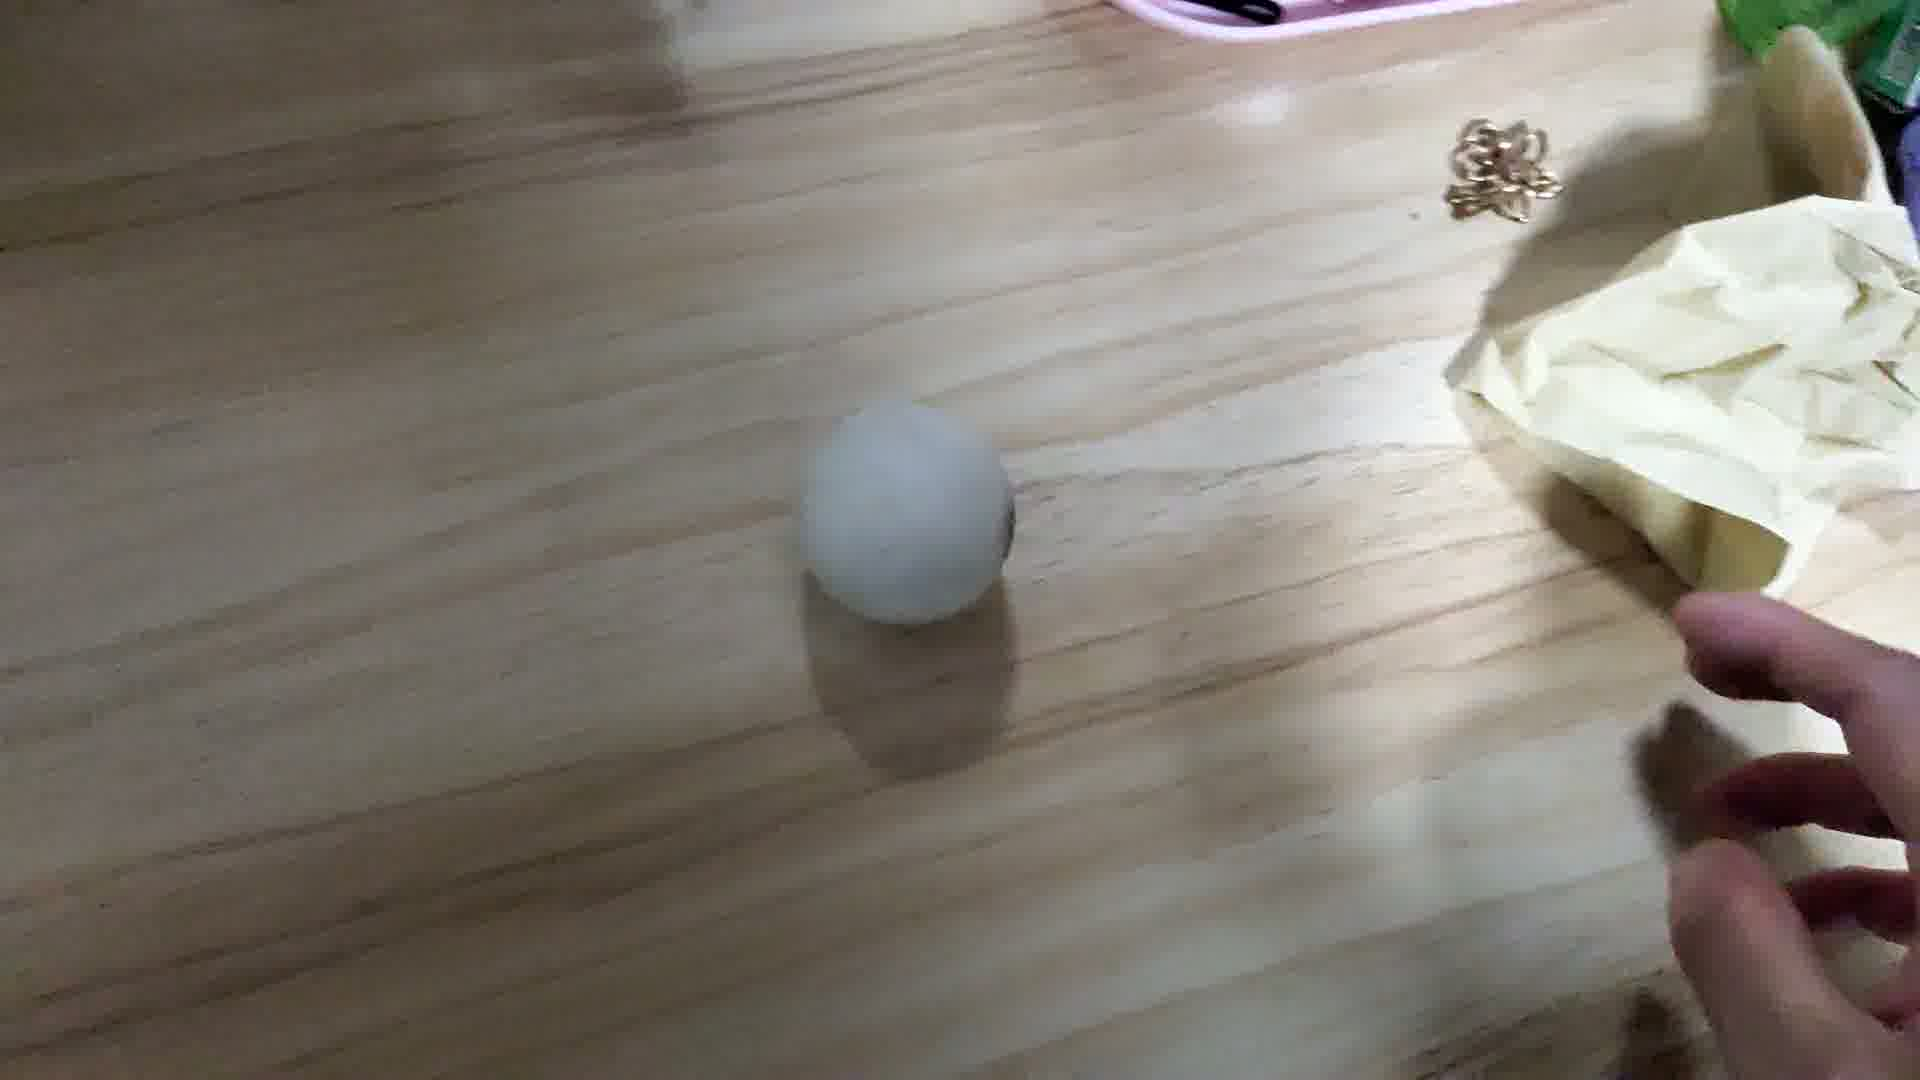Ball: (806, 398, 1017, 621)
